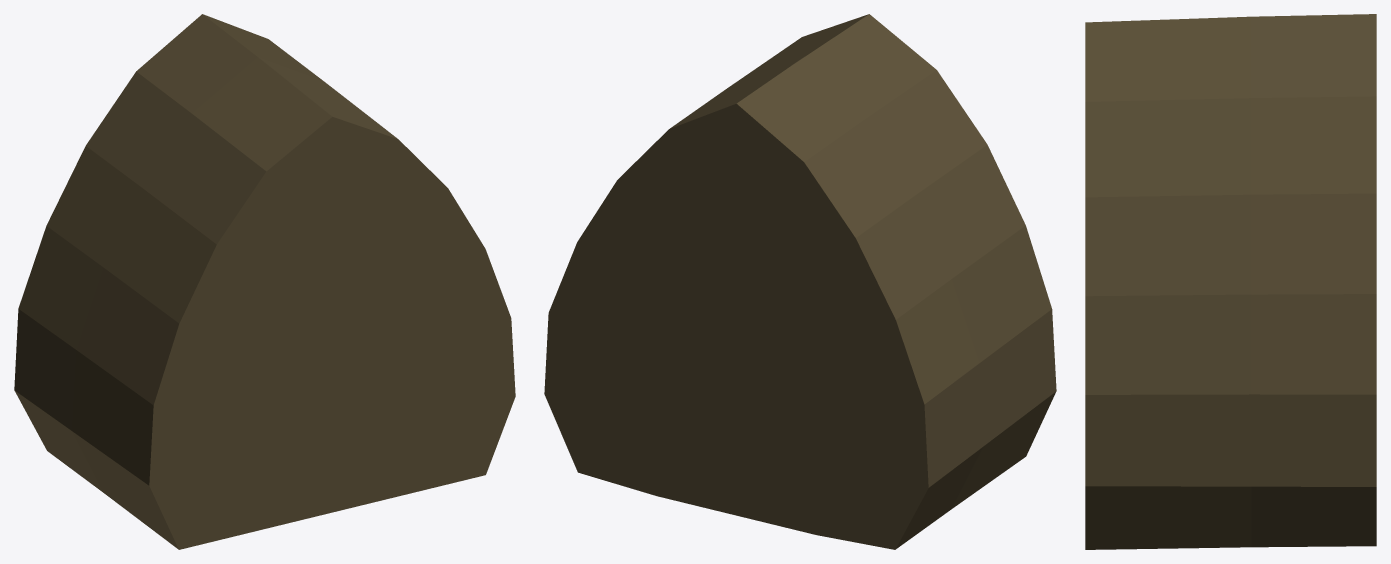
Rendered from fuel_aux.fbx.
3 renders of one model, left to right at view 1: azimuth 30°, elevation 25°; view 2: azimuth 150°, elevation 25°; view 3: azimuth 270°, elevation 25°, orthographic. The views are drawn at different scales.
Visible parts, largest first — view 1: fuel_aux; view 2: fuel_aux; view 3: fuel_aux.
Boxes of the visible parts, x1=… form: fuel_aux: x1=14, y1=14, x2=515, y2=549; fuel_aux: x1=544, y1=14, x2=1056, y2=549; fuel_aux: x1=1085, y1=14, x2=1376, y2=549.
Bounding box in the file's own units: 1.17 × 1.2 × 0.7.
